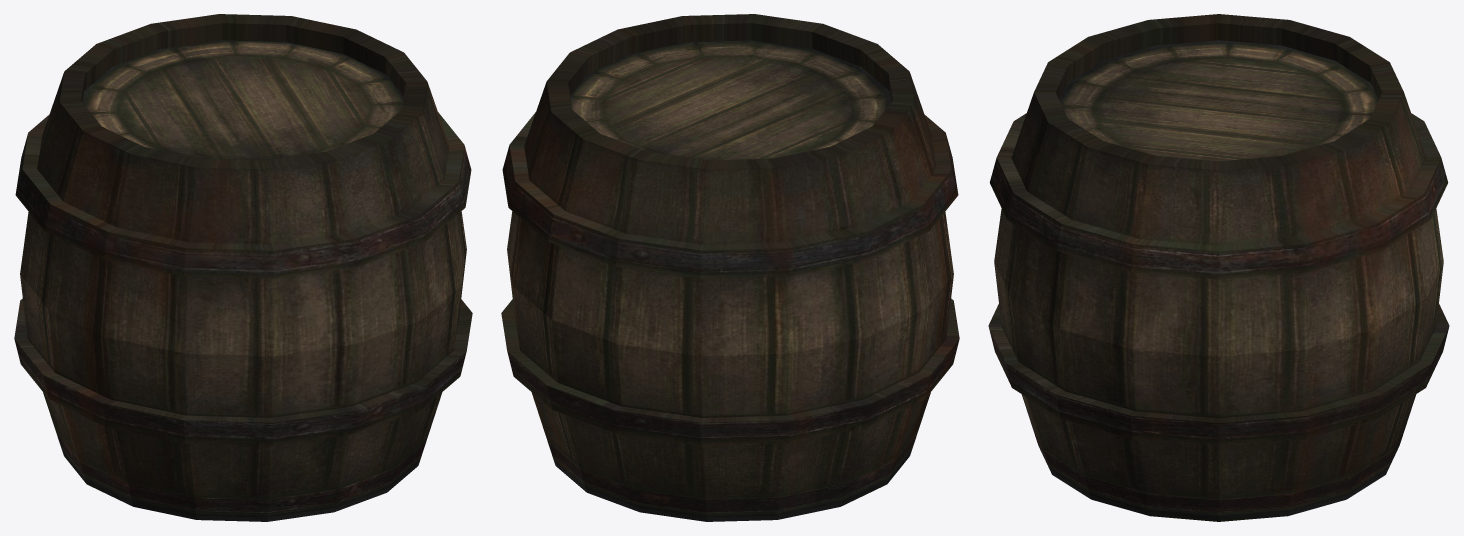
File: Barril.fbx
3 views of the same model, side by side, from view 1: azimuth 30°, elevation 25°; view 2: azimuth 150°, elevation 25°; view 3: azimuth 270°, elevation 25° (orthographic).
Parts seen in each view (by area): view 1: barril; view 2: barril; view 3: barril.
Boxes of the visible parts, x1,y1,x2,y2 form: barril: [14, 14, 472, 521]; barril: [501, 14, 959, 521]; barril: [988, 14, 1449, 521].
Bounding box in the file's own units: 237 × 200 × 237.
1 material, 1 textured.
